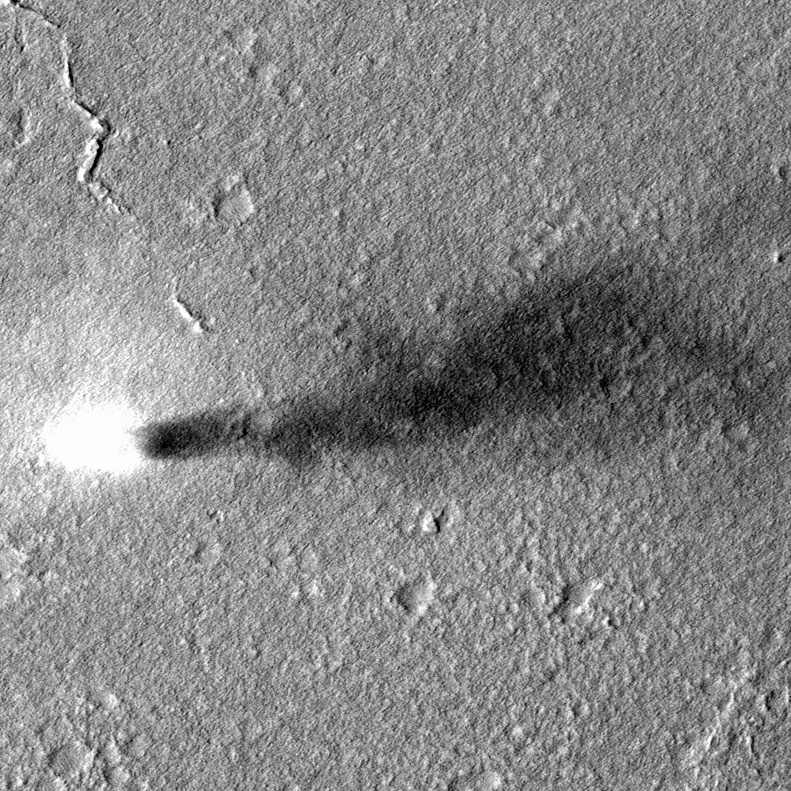dust_devil: (34, 258, 791, 493)
